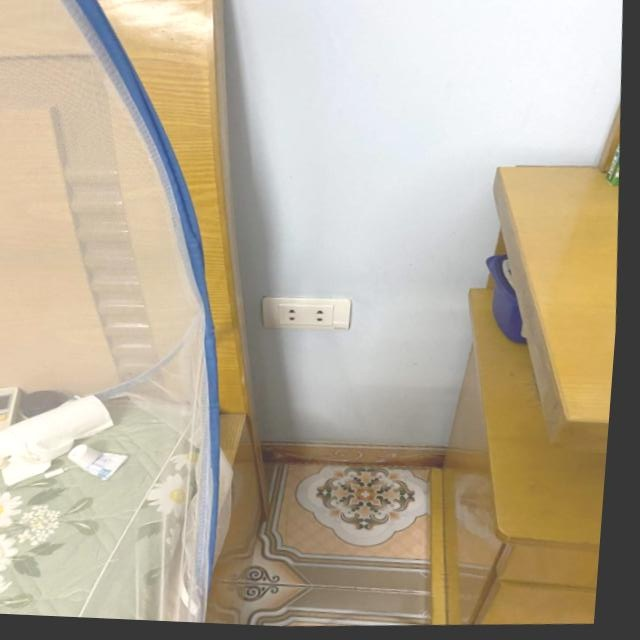outlet: (260, 292, 355, 335)
